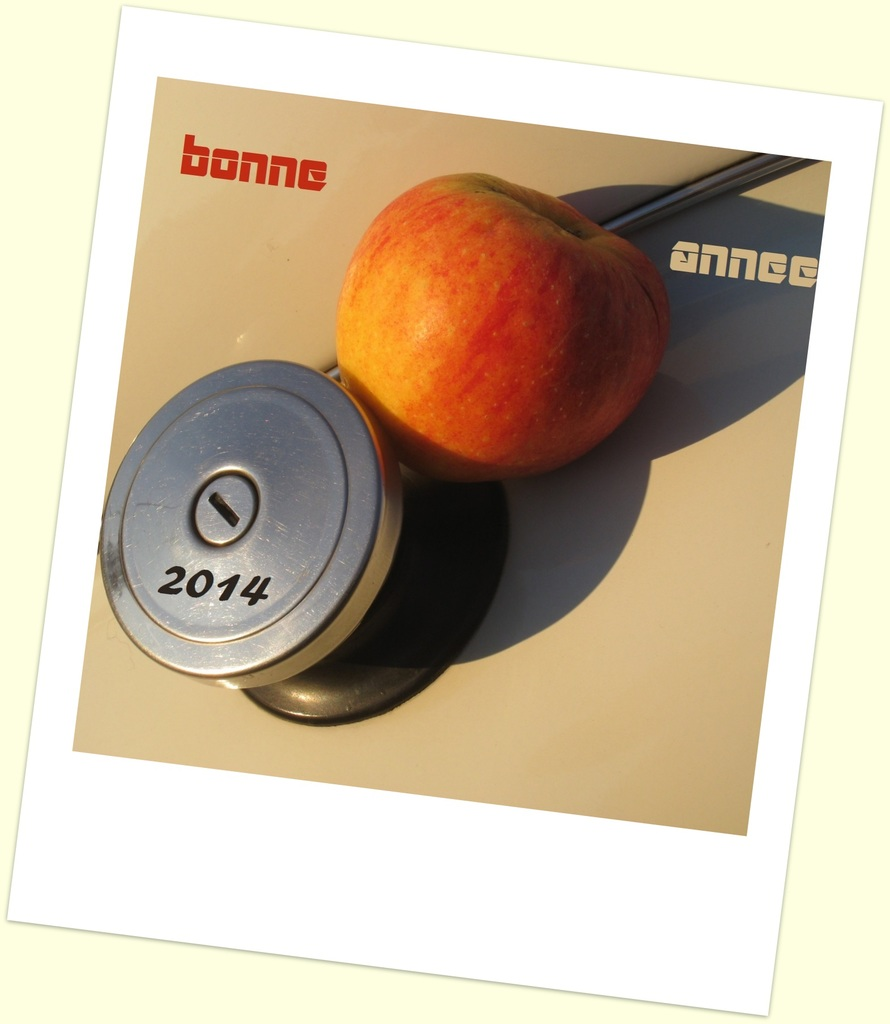Apple: (330, 163, 660, 474)
